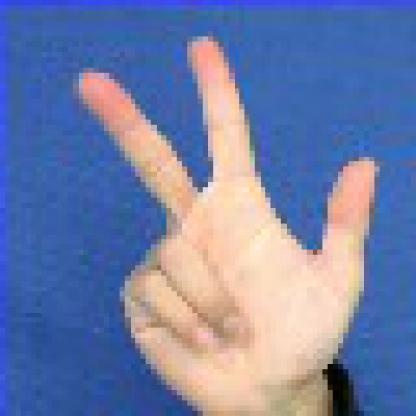eight: (62, 15, 390, 410)
